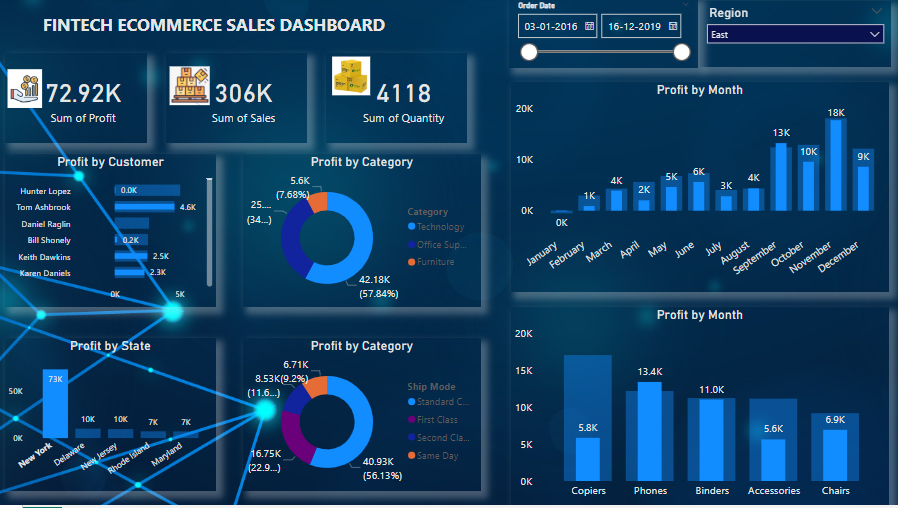

What the dashboard file says about the page in this screenshot:
{"tool":"powerbi","page":{"name":"Page 1","canvas":[1280,720],"ordinal":0},"visuals":[{"type":"textbox","box":[39.7,17,535.7,49.6],"z":0},{"type":"columnChart","title":" Profit by Month","fields":{"Category":["Orders.Order Date.Variation.Date Hierarchy.Year","Orders.Order Date.Variation.Date Hierarchy.Quarter","Orders.Order Date.Variation.Date Hierarchy.Month","Orders.Order Date.Variation.Date Hierarchy.Day"],"Y":["Sum(Orders.Profit)"]},"box":[728.5,120.5,535.7,297.6],"z":1000},{"type":"columnChart","title":" Profit by Month","fields":{"Y":["Sum(Orders.Profit)"],"Category":["Orders.Sub-Category"]},"box":[728.5,439.4,535.7,280.6],"z":2000},{"type":"card","fields":{"Values":["Sum(Orders.Profit)"]},"box":[11.6,80,201.3,127.7],"z":3000},{"type":"card","fields":{"Values":["Sum(Orders.Sales)"]},"box":[240,80,200,127.7],"z":4000},{"type":"card","fields":{"Values":["Sum(Orders.Quantity)"]},"box":[465.8,80,200,127.7],"z":5000},{"type":"slicer","fields":{"Values":["Orders.Order Date"]},"box":[725.5,0,268,99.8],"z":6000},{"type":"slicer","fields":{"Values":["Orders.Region"]},"box":[996.3,5.7,270.8,94.1],"z":7000},{"type":"donutChart","title":"Profit by Category","fields":{"Y":["Sum(Orders.Profit)"],"Category":["Orders.Category"]},"box":[348.7,222.5,337.3,216.9],"z":8000},{"type":"donutChart","title":"Profit by Category","fields":{"Y":["Sum(Orders.Profit)"],"Category":["Orders.Ship Mode"]},"box":[348.7,483.3,337.3,216.9],"z":9000},{"type":"clusteredBarChart","title":" Profit by Customer","fields":{"Y":["Sum(Orders.Profit)"],"Category":["Orders.Customer Name"]},"box":[11.3,222.5,299.1,216.9],"z":10000},{"type":"columnChart","title":"Profit by State","fields":{"Y":["Sum(Orders.Profit)"],"Category":["Orders.State"]},"box":[11.3,483.3,299.1,216.9],"z":11000},{"type":"image","box":[10.3,89,59.4,81.3],"z":12000},{"type":"image","box":[240,89,67.1,72.3],"z":13000},{"type":"image","box":[455.5,80,92.9,64.5],"z":14000}]}

Visuals, with their boxes in screenshot pixels (x1, y1, x2, y2), scaled from the page's 1280x720 canvas onto the 898x508 screenshot:
textbox: x1=28 y1=12 x2=404 y2=47
" Profit by Month" columnChart: x1=511 y1=85 x2=887 y2=295
" Profit by Month" columnChart: x1=511 y1=310 x2=887 y2=507
card - Sum(Orders.Profit): x1=8 y1=56 x2=149 y2=147
card - Sum(Orders.Sales): x1=168 y1=56 x2=309 y2=147
card - Sum(Orders.Quantity): x1=327 y1=56 x2=467 y2=147
slicer - Orders.Order Date: x1=509 y1=0 x2=697 y2=70
slicer - Orders.Region: x1=699 y1=4 x2=889 y2=70
"Profit by Category" donutChart: x1=245 y1=157 x2=481 y2=310
"Profit by Category" donutChart: x1=245 y1=341 x2=481 y2=494
" Profit by Customer" clusteredBarChart: x1=8 y1=157 x2=218 y2=310
"Profit by State" columnChart: x1=8 y1=341 x2=218 y2=494
image: x1=7 y1=63 x2=49 y2=120
image: x1=168 y1=63 x2=215 y2=114
image: x1=320 y1=56 x2=385 y2=102
